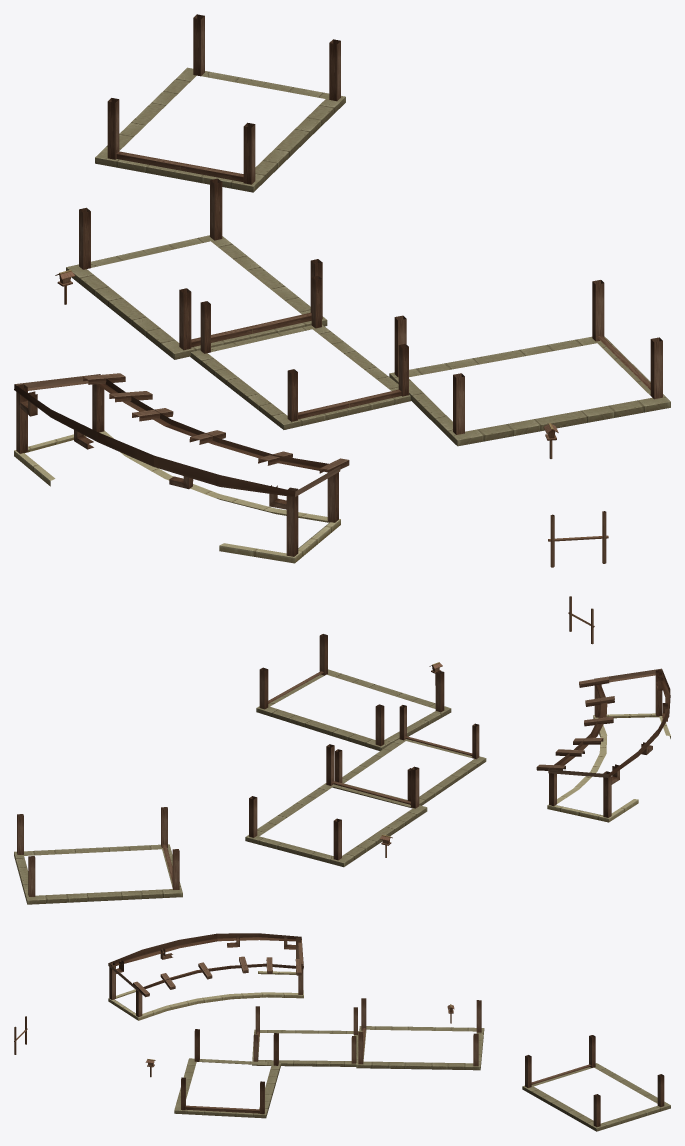
Rendered from Area_13_3.fbx.
3 renders of one model, top to bottom at view 1: azimuth 30°, elevation 25°; view 2: azimuth 150°, elevation 25°; view 3: azimuth 270°, elevation 25°, orthographic. The views are drawn at different scales.
Parts seen in each view (by area): view 1: Area_13_3; view 2: Area_13_3; view 3: Area_13_3.
Boxes of the visible parts, x1=… form: Area_13_3: x1=14, y1=14, x2=670, y2=567; Area_13_3: x1=14, y1=596, x2=670, y2=904; Area_13_3: x1=14, y1=933, x2=670, y2=1131.
Bounding box in the file's own units: 4360 × 546 × 7574.
